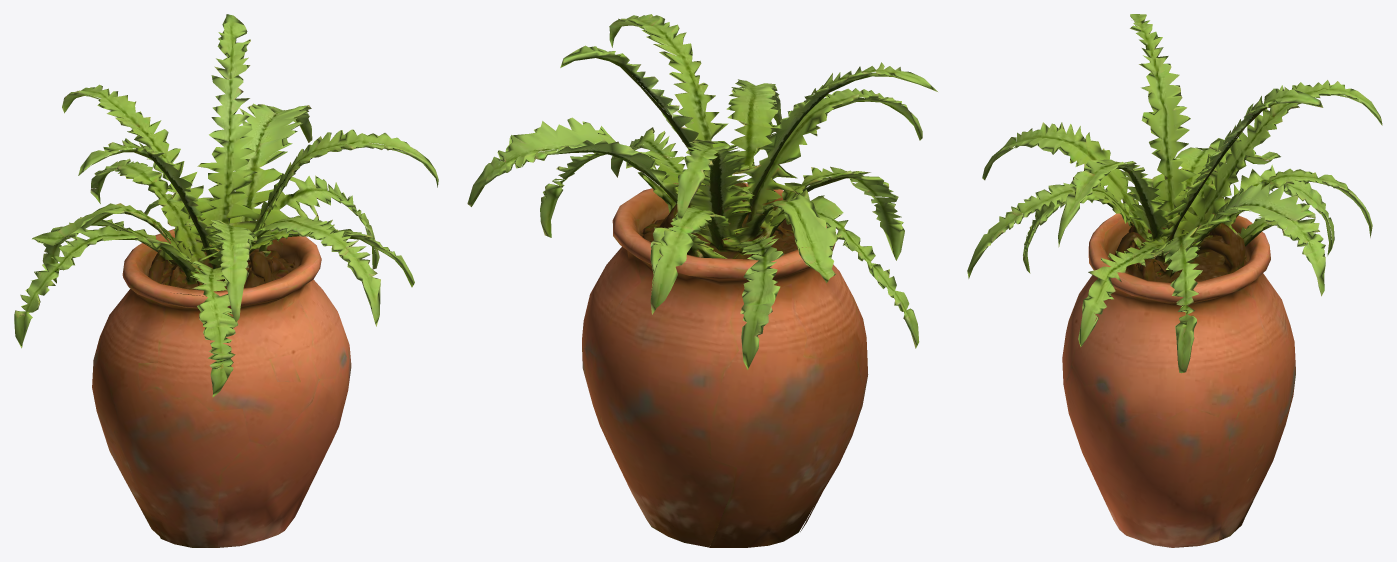
File: macetero.glb
The picture shows the model from 3 angles, left to right: view 1: azimuth 30°, elevation 25°; view 2: azimuth 150°, elevation 25°; view 3: azimuth 270°, elevation 25°; orthographic projection. The views are drawn at different scales.
Visible parts, largest first — view 1: geometry_0; view 2: geometry_0; view 3: geometry_0.
Part boxes in pixels (bbox=[...]): geometry_0: bbox=[14, 14, 438, 547]; geometry_0: bbox=[467, 14, 937, 547]; geometry_0: bbox=[967, 14, 1382, 547].
Bounding box in the file's own units: 0.7 × 0.8499 × 0.7006.
1 material, 1 textured.
